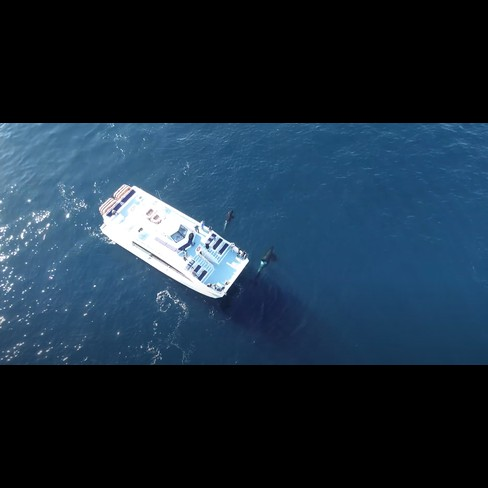boat: (85, 181, 253, 303)
orca: (253, 244, 282, 282), (221, 206, 239, 229)
